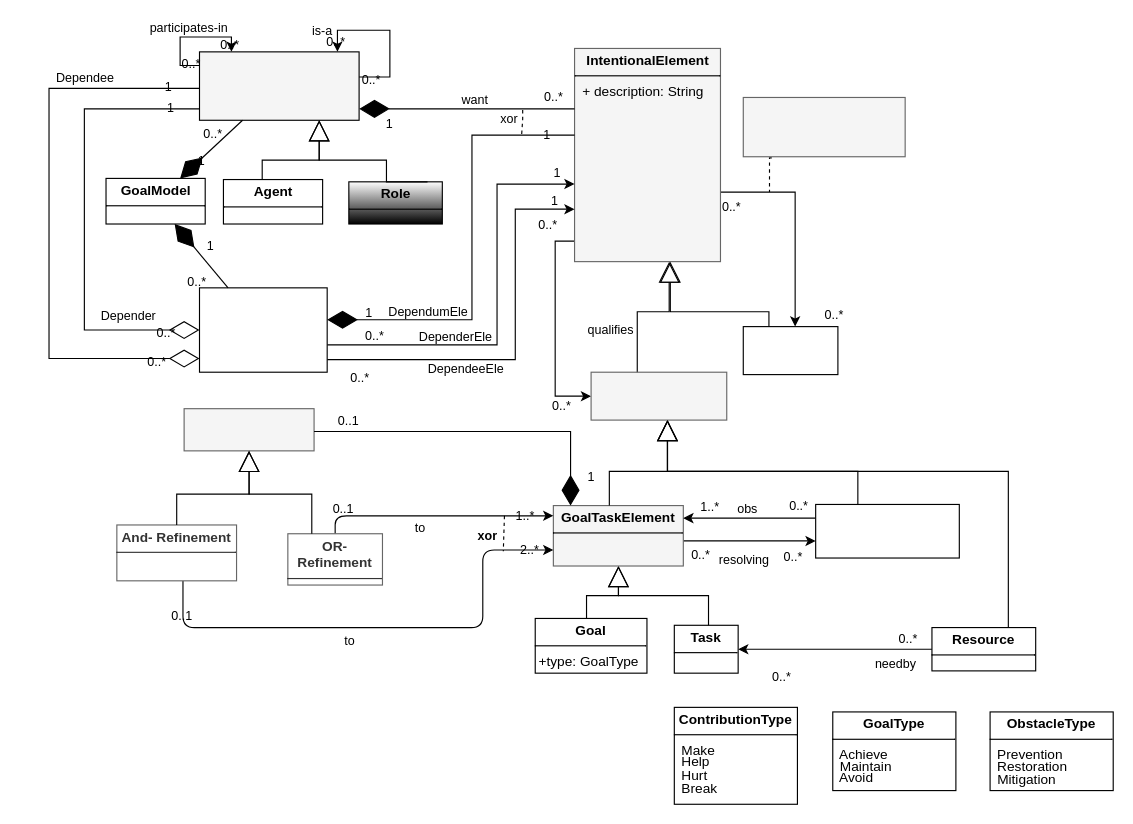
This 1133x824 diagram has some shape labels left out. Here are the shapes that lost their labels. From the top down, the centre of each, then its label:
At [278,85]: "Actor + type: GoalType".
At [823,126]: "Contribution + con: ContributionType".
At [262,329]: "Dependency".
At [790,350]: "Quality".
At [658,395]: "ConcreteIntentional Element".
At [248,429]: "Refinement".
At [887,530]: "Obstacle + type: ObstacleType".
